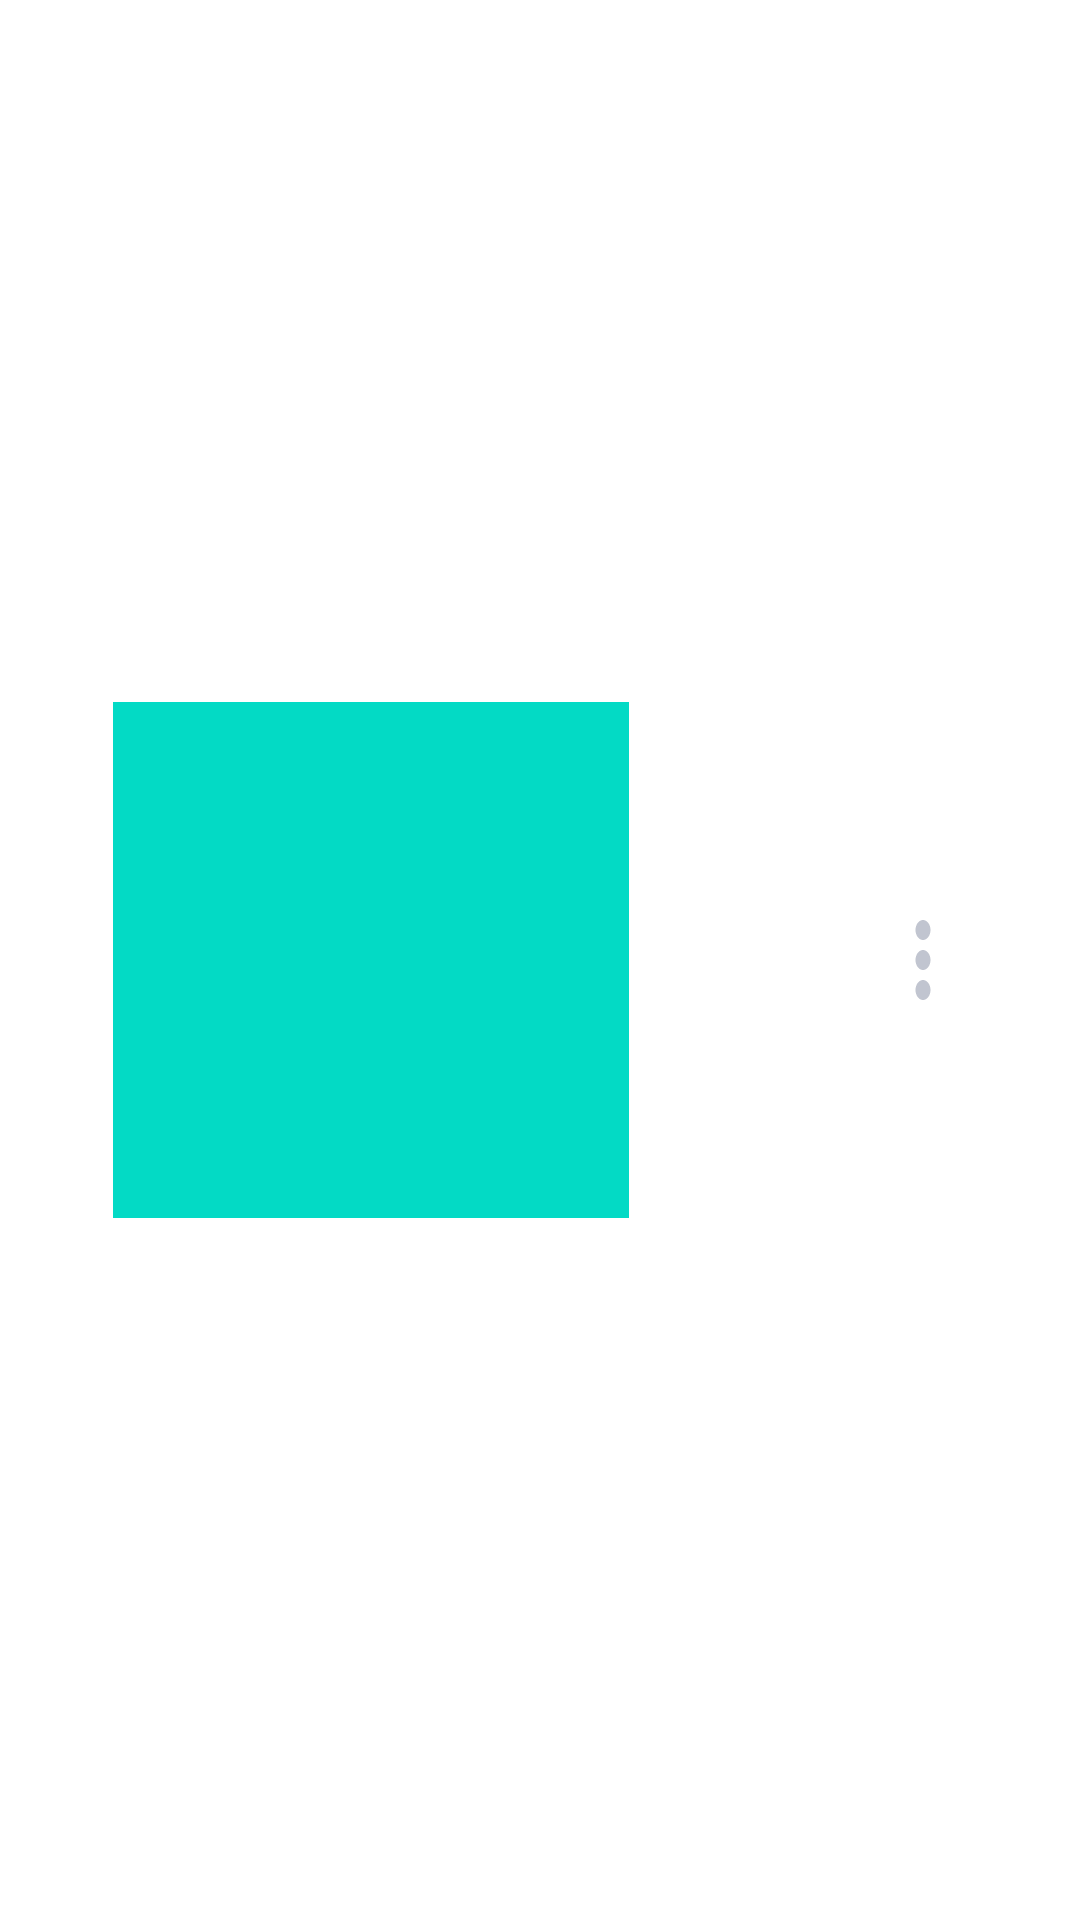

Screen size 1080x1920. Icon name, then its center in pixels as [x,y]:
Боковое меню элемента списка: [923,960]
